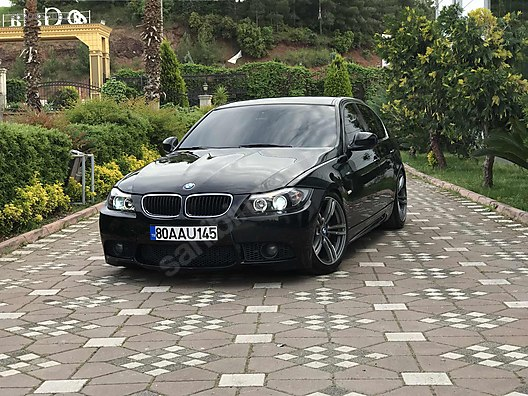bmw: (95, 96, 412, 279)
